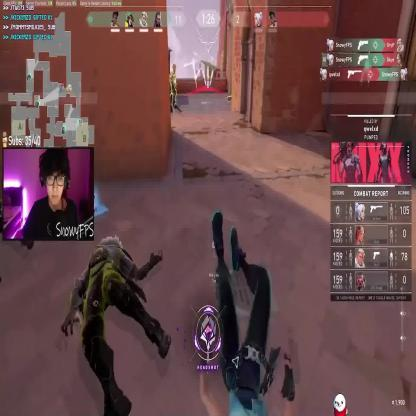enemy: (168, 64, 182, 115)
enemy_head: (171, 63, 176, 75)
